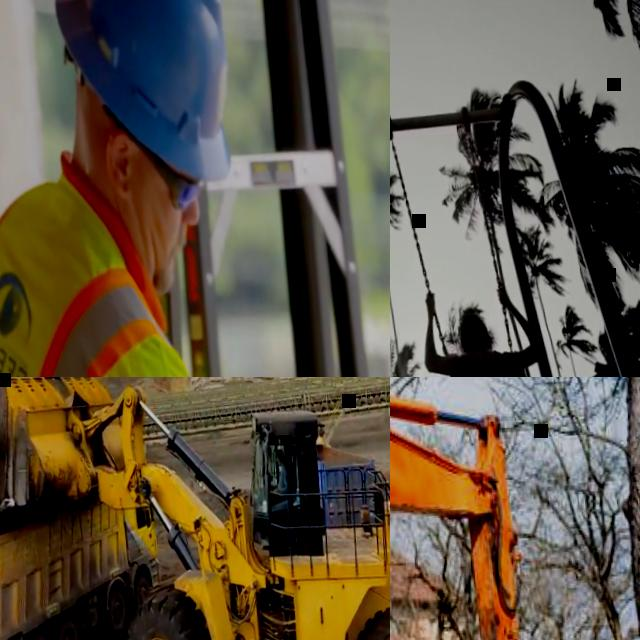Hardhat: (45, 0, 237, 185)
NO-Hardhat: (456, 303, 485, 331), (276, 446, 284, 457)
NO-Mask: (120, 192, 184, 297), (275, 458, 281, 465)
NO-Safety Vest: (465, 344, 530, 377), (276, 464, 287, 488)
Person: (0, 0, 262, 377), (415, 274, 544, 377), (266, 444, 289, 500)
Safety Vest: (0, 168, 211, 377)
vehicle: (0, 377, 390, 640), (390, 377, 615, 640), (0, 448, 168, 640), (257, 411, 380, 539)
